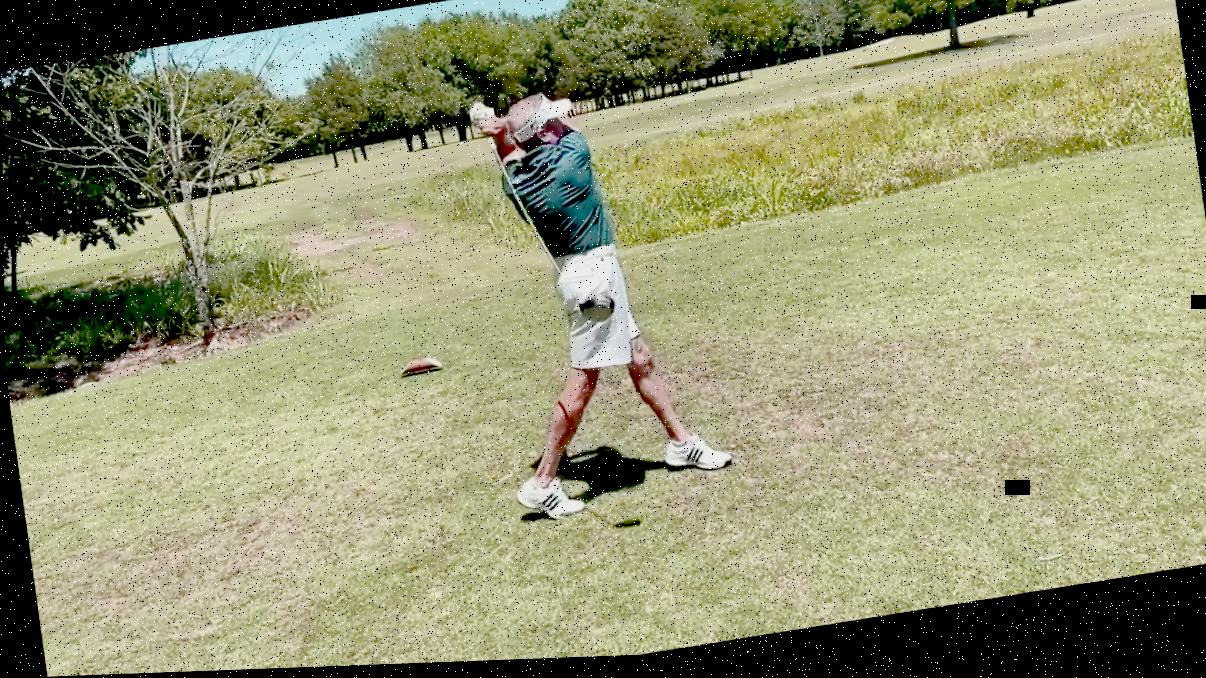ClubHead: (574, 290, 622, 331)
